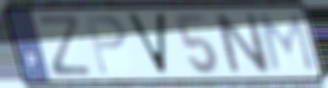5: (171, 11, 220, 77)
M: (256, 11, 318, 74)
N: (210, 11, 275, 77)
P: (82, 13, 128, 77)
V: (123, 11, 170, 78)
Z: (34, 12, 95, 78)
